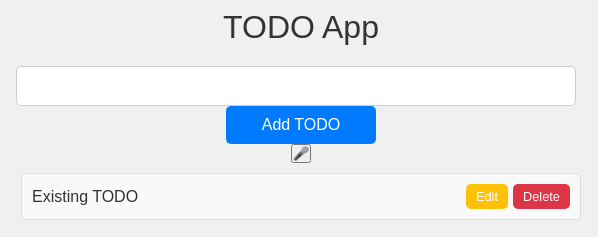
Test case: deletes a TODO
This screenshot has width=598, height=237.
Click the button "Delete". click: (542, 196)
box: [513,184,570,209]
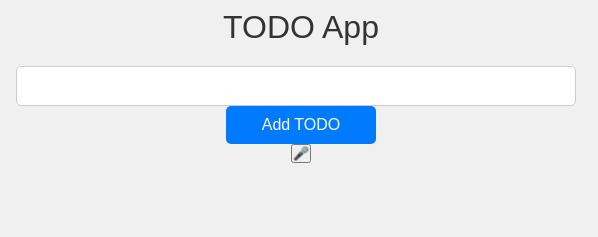
Result: the text "Existing TODO" is gone
